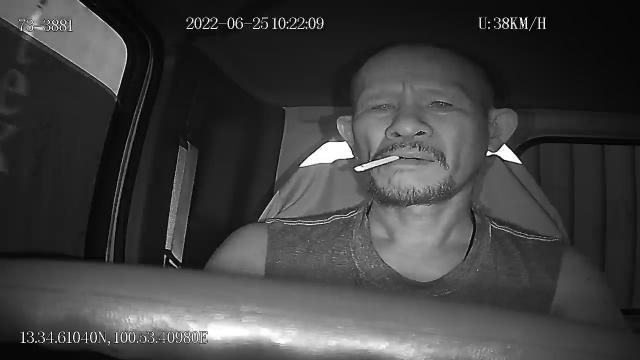SafeDriving: (360, 92, 401, 124), (420, 89, 464, 117)
Smoking: (353, 155, 399, 173)
